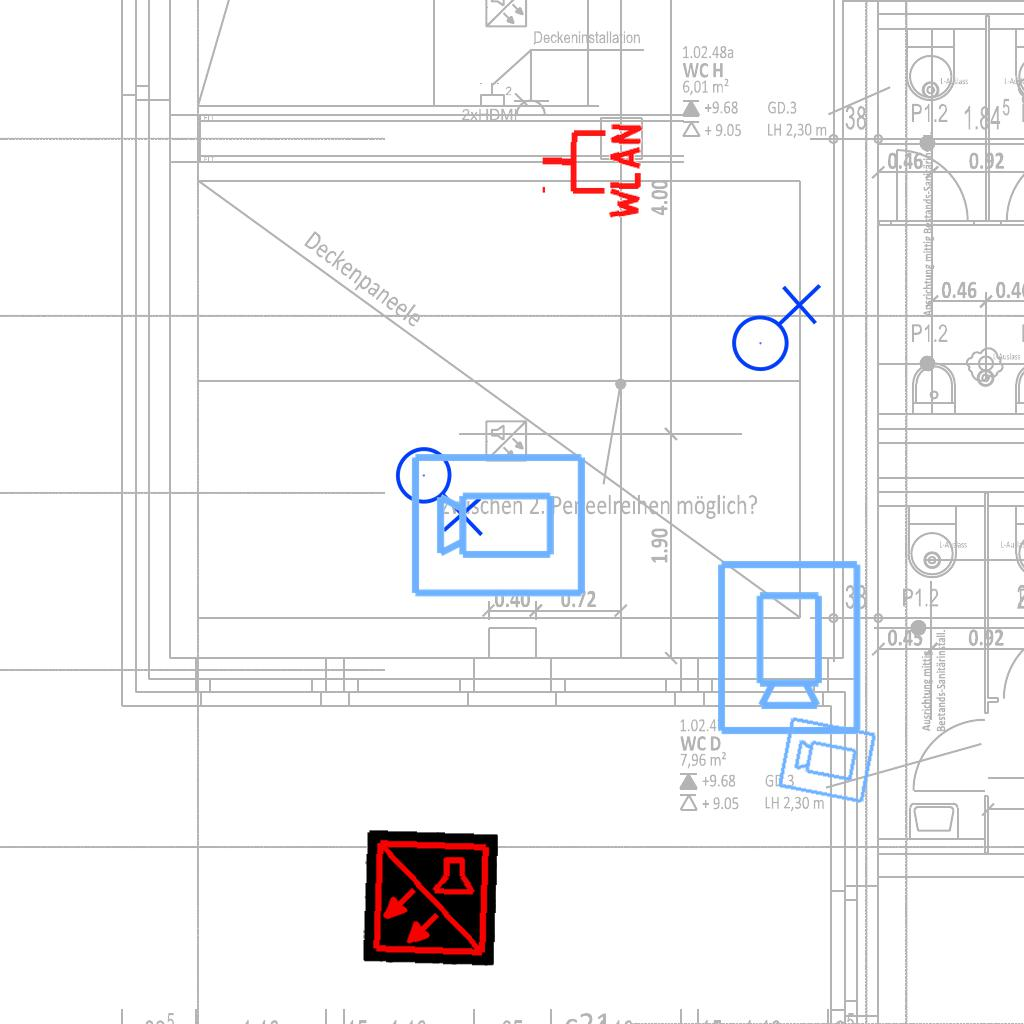Elektroanschluss_allgemein_230V_Geraeteanschlussdose_230V: (723, 279, 822, 373), (394, 438, 488, 537)
KFO_Kamera_mit_Festobjektiv: (711, 556, 865, 738), (408, 447, 590, 601), (775, 713, 880, 806)
OKW_Multisensormelder_(Kombination_optischer_Rauch-Kahlenmonoxid_Waerme-Melder): (361, 829, 499, 967)
WLAN: (537, 118, 644, 224)
